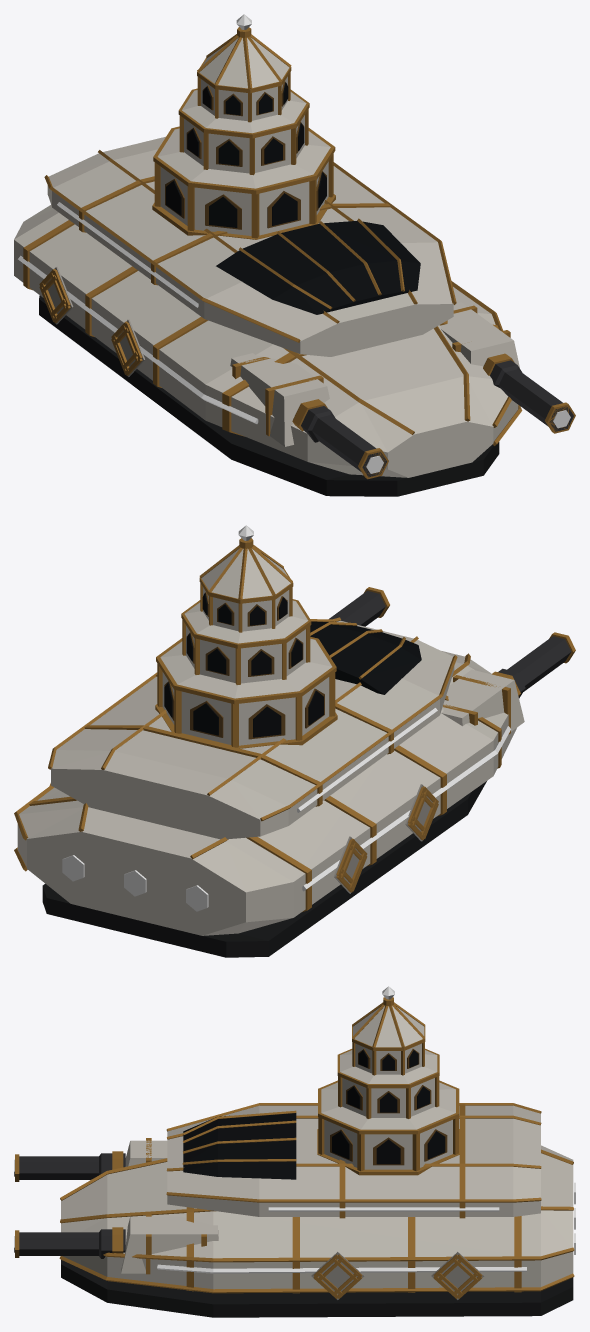
File: acu.glb
3 views of the same model, one above another, from view 1: azimuth 30°, elevation 25°; view 2: azimuth 150°, elevation 25°; view 3: azimuth 270°, elevation 25° (orthographic). The views are drawn at different scales.
Visible parts, largest first — view 1: body; view 2: body; view 3: body.
Part boxes in pixels (box(x1,y1,x2,y2)): body: box(14, 14, 575, 496); body: box(14, 525, 575, 957); body: box(14, 986, 575, 1317).
Bounding box in the file's own units: 6.25 × 6.83 × 12.18.
